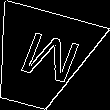M_S: (4, 28, 76, 90)
